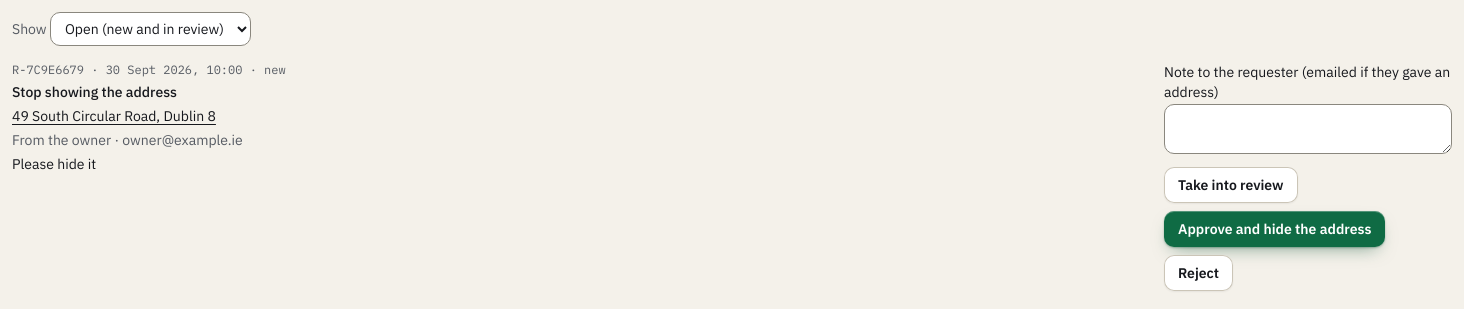
Test: admin pages › decide a removal request with a note
Expected: the text "Stop showing the address" is shown, [12,83,177,101]
Step 1. Type "Done." into the text box labelled "Note to the requester (emailed if they gave an address)" → (1308, 129), box [1164,104,1452,154]
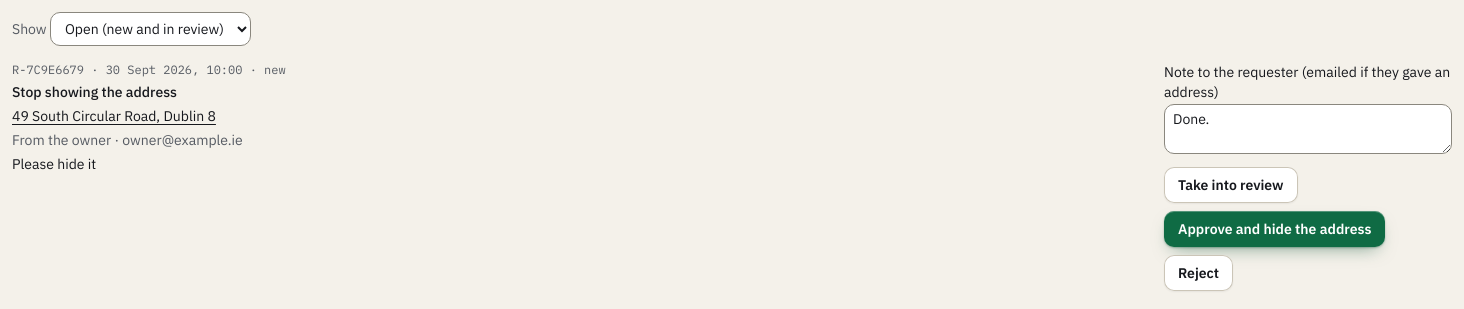
Step 2. Click the button "Approve and hide the address" → (1275, 229), box [1164,211,1386,247]
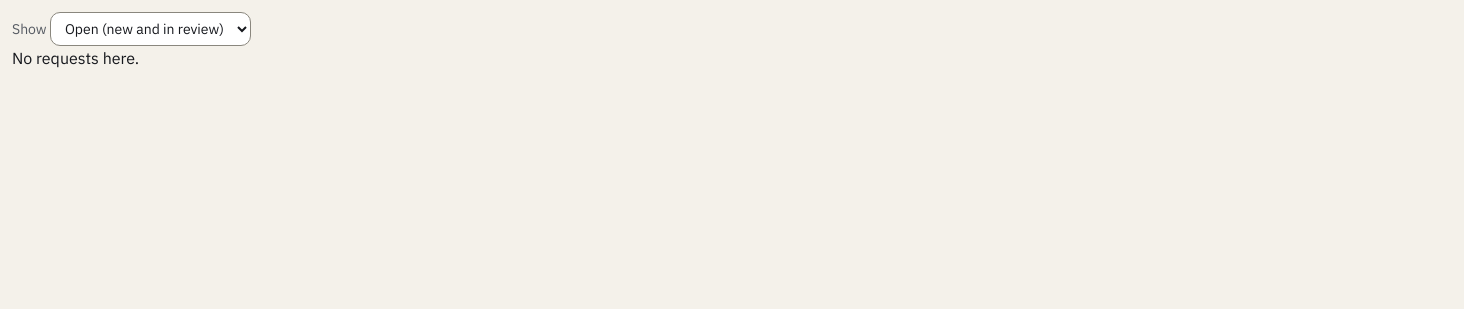
Now the text "No requests here." is shown, box [12,48,139,68]
